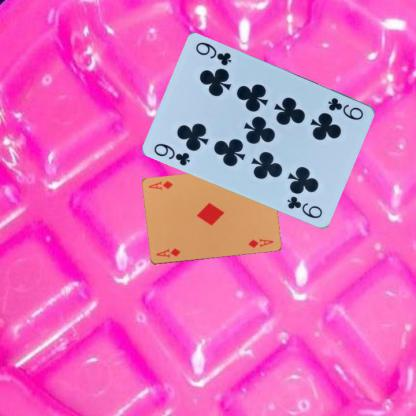9c: (151, 140, 192, 167), (325, 95, 365, 121)
Ad: (154, 245, 181, 259)
